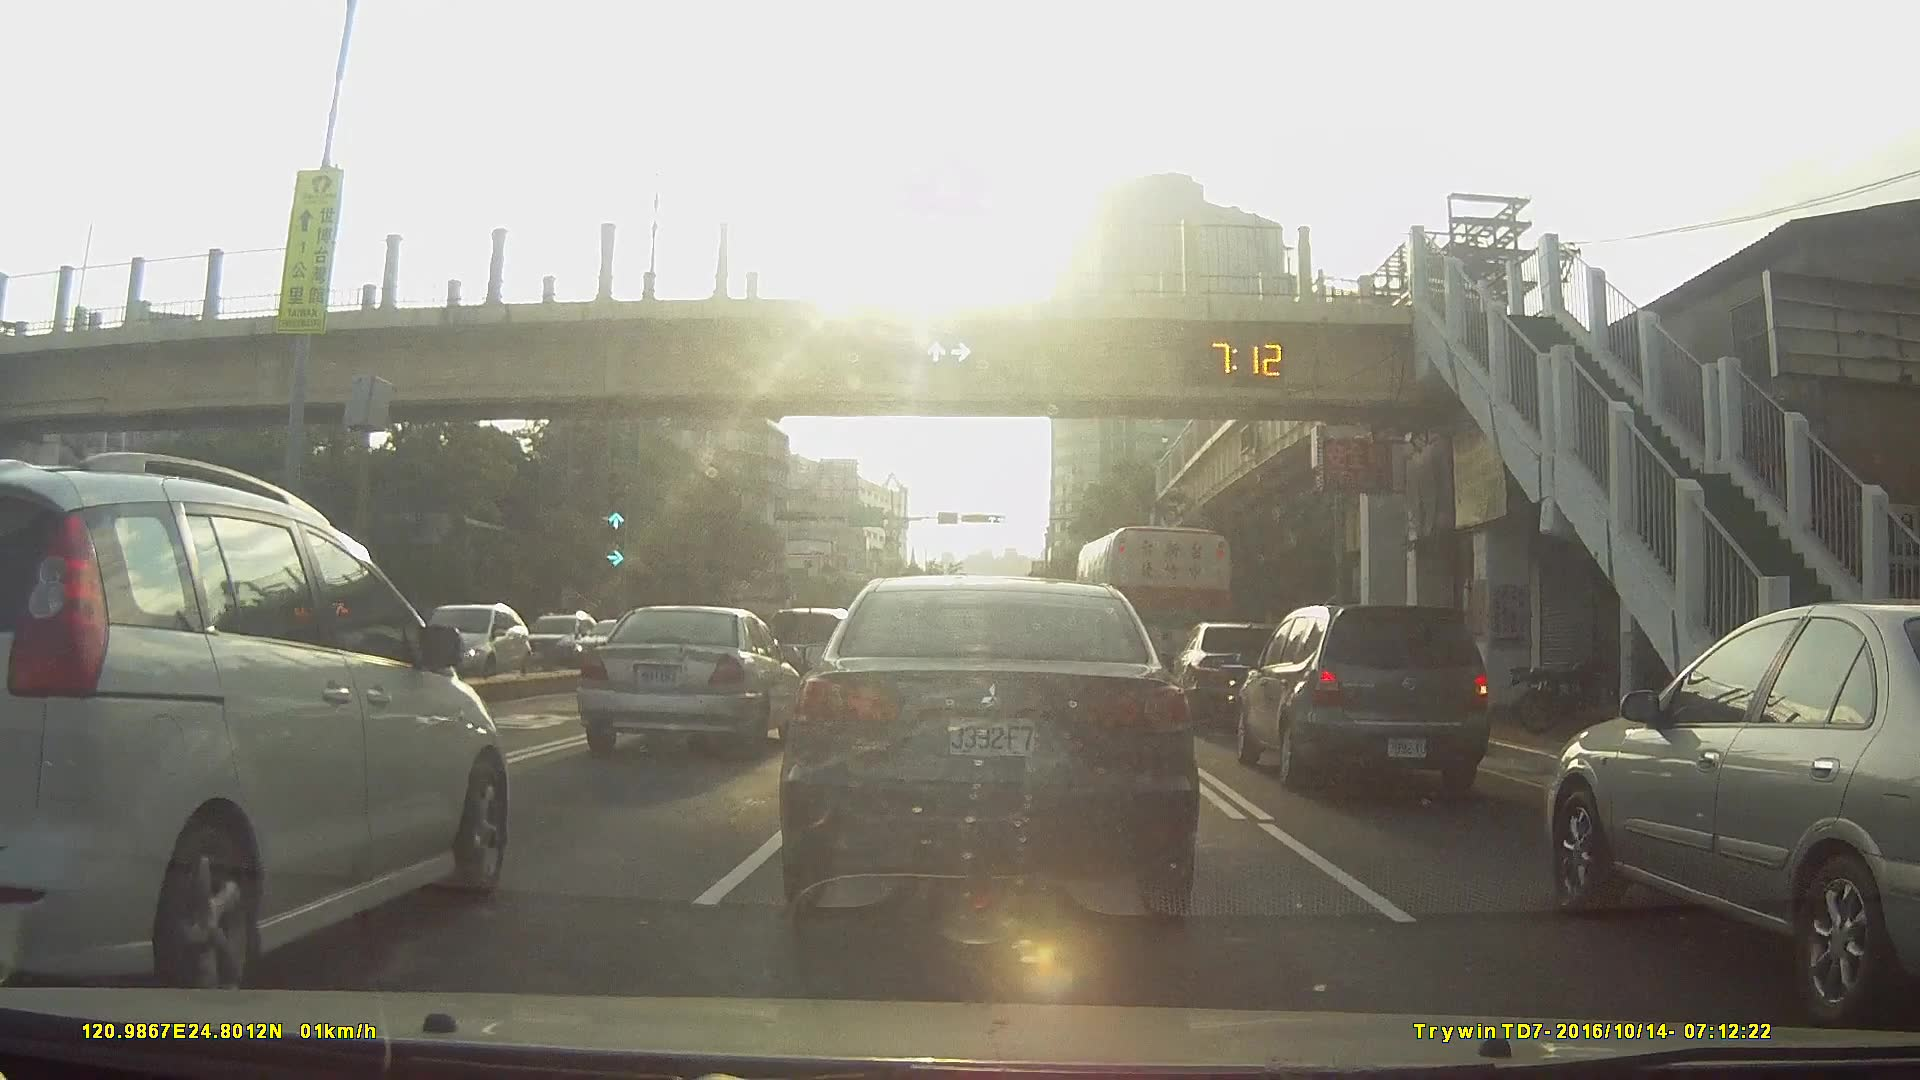vehicle: (0, 454, 520, 1007), (1548, 599, 1920, 1030), (785, 575, 1199, 928), (1233, 607, 1491, 795), (585, 604, 812, 756), (1172, 622, 1298, 727), (745, 605, 845, 702), (417, 601, 542, 678), (512, 611, 618, 679), (564, 617, 663, 679)
